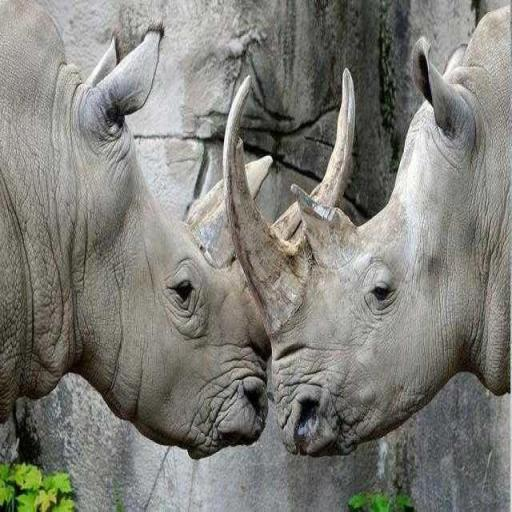Rhino: (219, 4, 511, 458), (0, 0, 275, 461)
